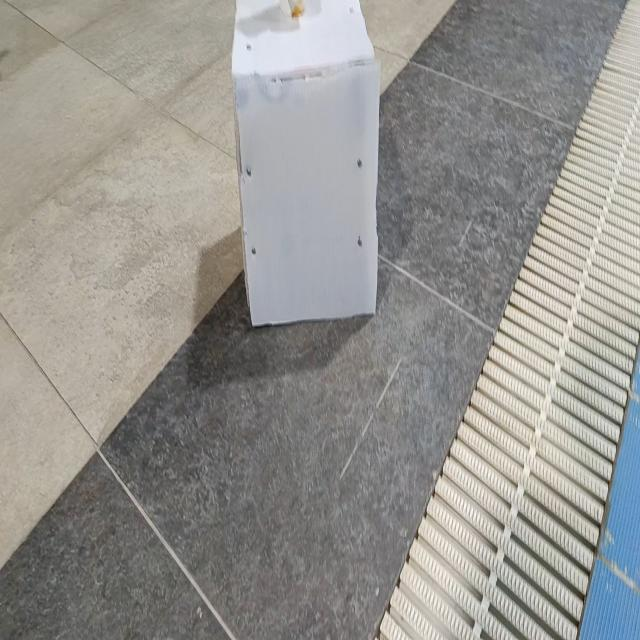Cube: (230, 0, 382, 328)
